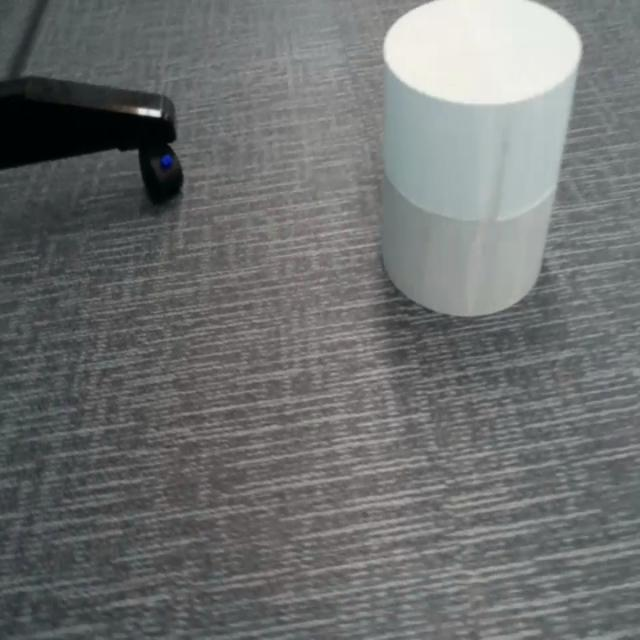cylinder: (379, 0, 583, 318)
